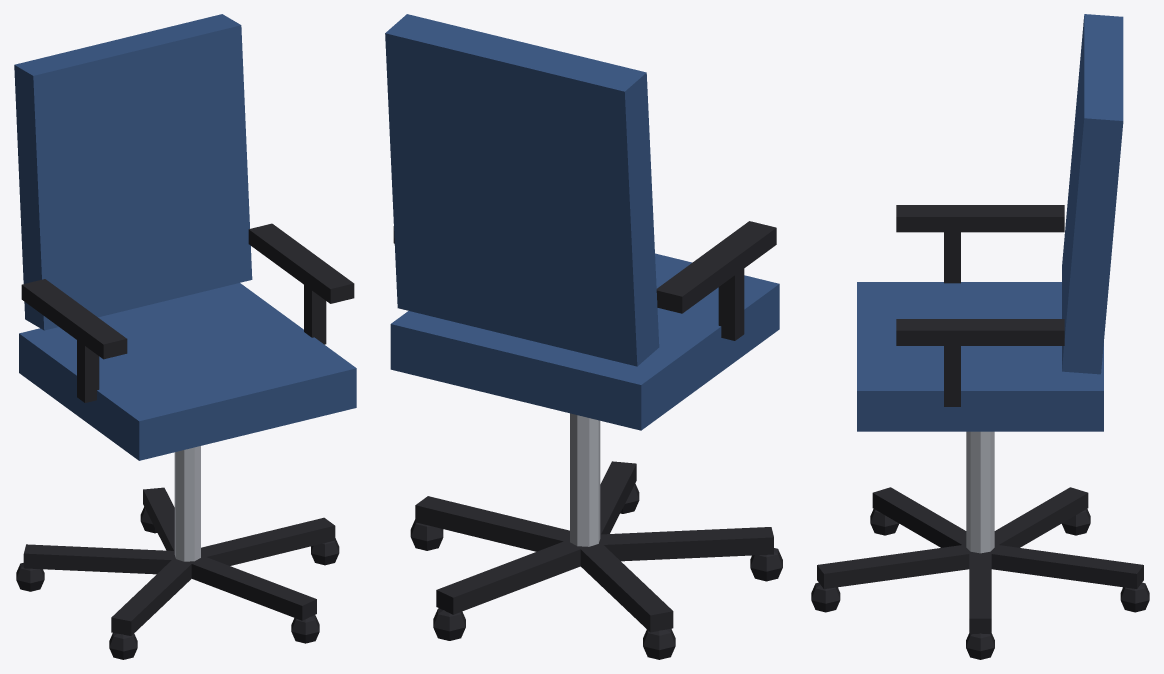
File: office_chair.glb
3 views of the same model, side by side, from view 1: azimuth 30°, elevation 25°; view 2: azimuth 150°, elevation 25°; view 3: azimuth 270°, elevation 25° (orthographic). The views are drawn at different scales.
Visible parts, largest first — view 1: back_chair_fabric, seat_chair_fabric, legs_chair_black, arms_chair_black, column_chair_chrome, wheels_chair_black; view 2: back_chair_fabric, seat_chair_fabric, legs_chair_black, arms_chair_black, column_chair_chrome, wheels_chair_black; view 3: seat_chair_fabric, back_chair_fabric, legs_chair_black, arms_chair_black, column_chair_chrome, wheels_chair_black.
Part boxes in pixels (x1,y1,x2,y2): back_chair_fabric: (14, 14, 252, 330); seat_chair_fabric: (19, 283, 356, 460); legs_chair_black: (23, 487, 335, 635); arms_chair_black: (21, 223, 354, 402); column_chair_chrome: (174, 446, 200, 561); wheels_chair_black: (16, 507, 339, 659); back_chair_fabric: (385, 14, 659, 366); seat_chair_fabric: (390, 253, 779, 430); legs_chair_black: (415, 461, 773, 632); arms_chair_black: (393, 221, 776, 340); column_chair_chrome: (570, 413, 600, 546); wheels_chair_black: (410, 483, 782, 659); seat_chair_fabric: (857, 282, 1103, 431); back_chair_fabric: (1062, 14, 1123, 374); legs_chair_black: (817, 487, 1143, 633); arms_chair_black: (896, 205, 1064, 406); column_chair_chrome: (966, 431, 994, 553); wheels_chair_black: (811, 509, 1149, 659).
Bounding box in the file's own units: 0.585 × 1.03 × 0.6036.
